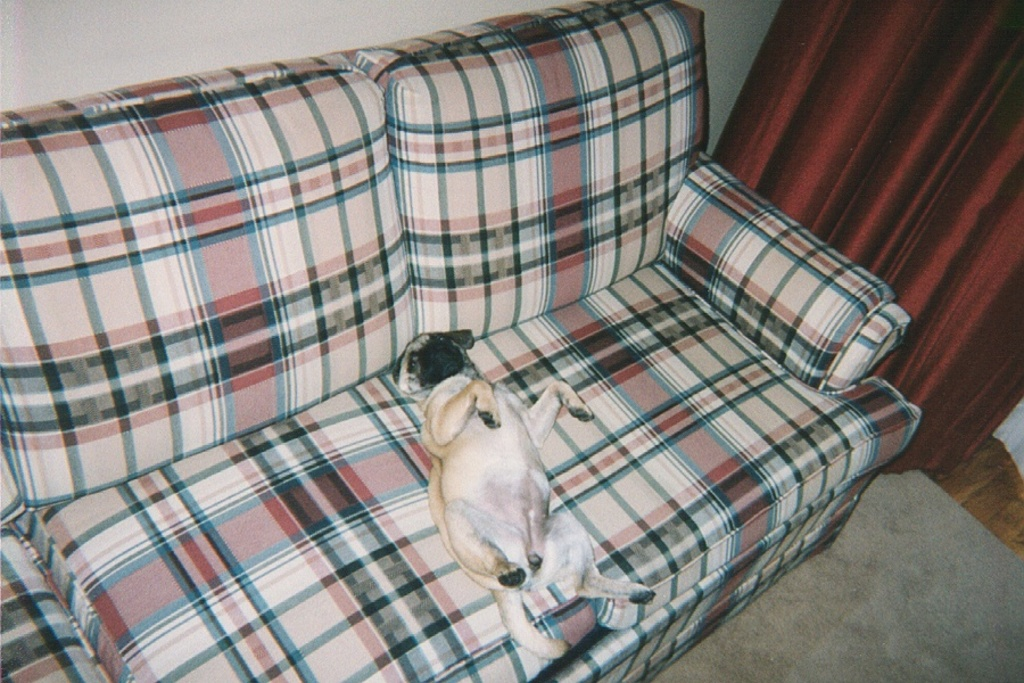Couch: (7, 27, 948, 683)
